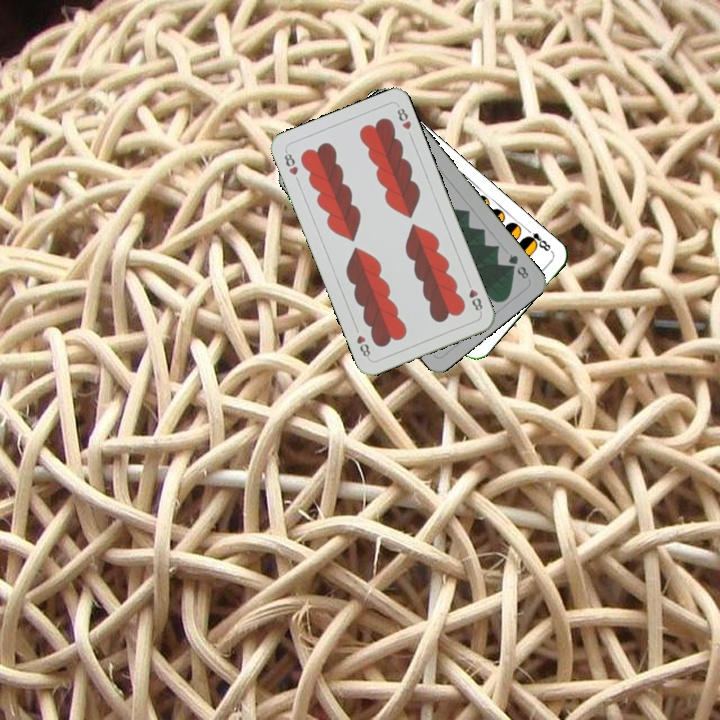E8: (521, 224, 553, 254)
G8: (504, 250, 531, 282)
H8: (463, 277, 485, 315), (280, 147, 301, 178)
